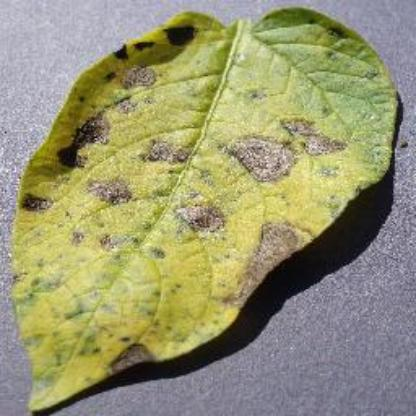Early-Blight: (9, 2, 414, 416)
